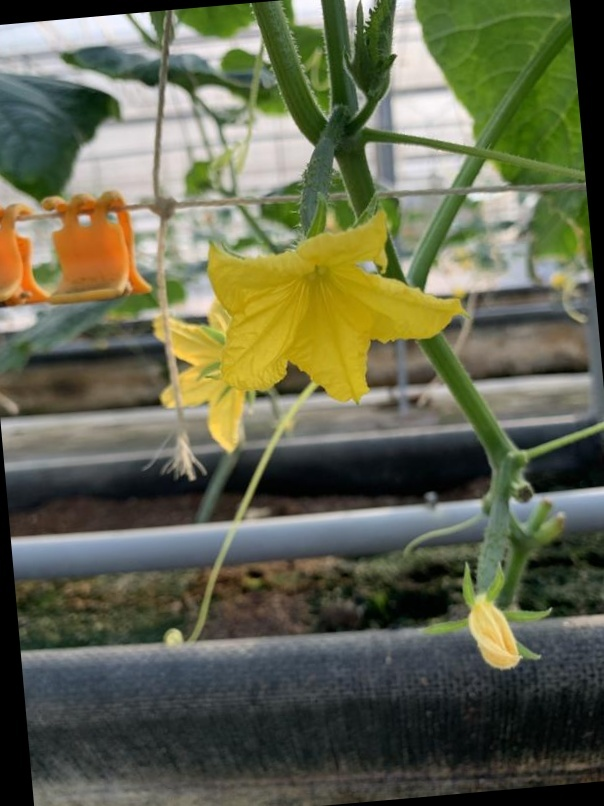flowering: (194, 120, 459, 404)
